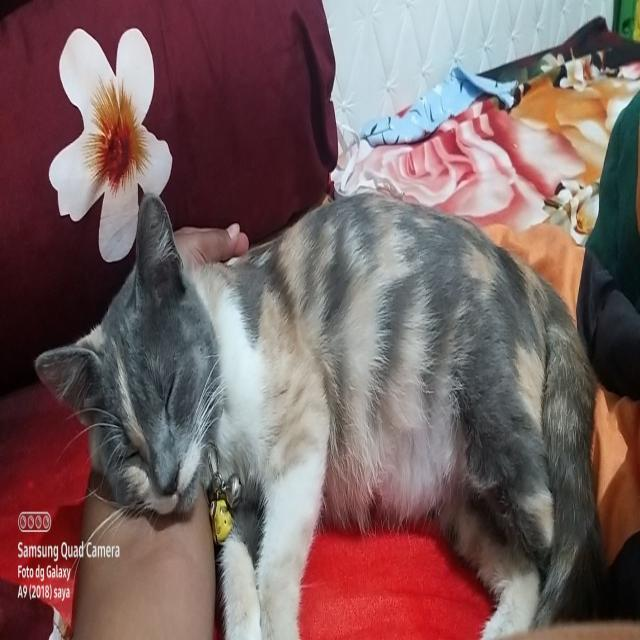da khoe manh: (270, 265, 539, 436)
